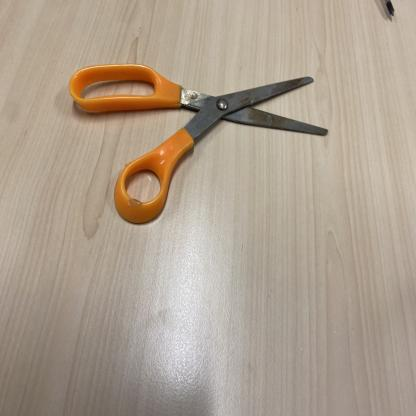scissors: (69, 63, 329, 225)
